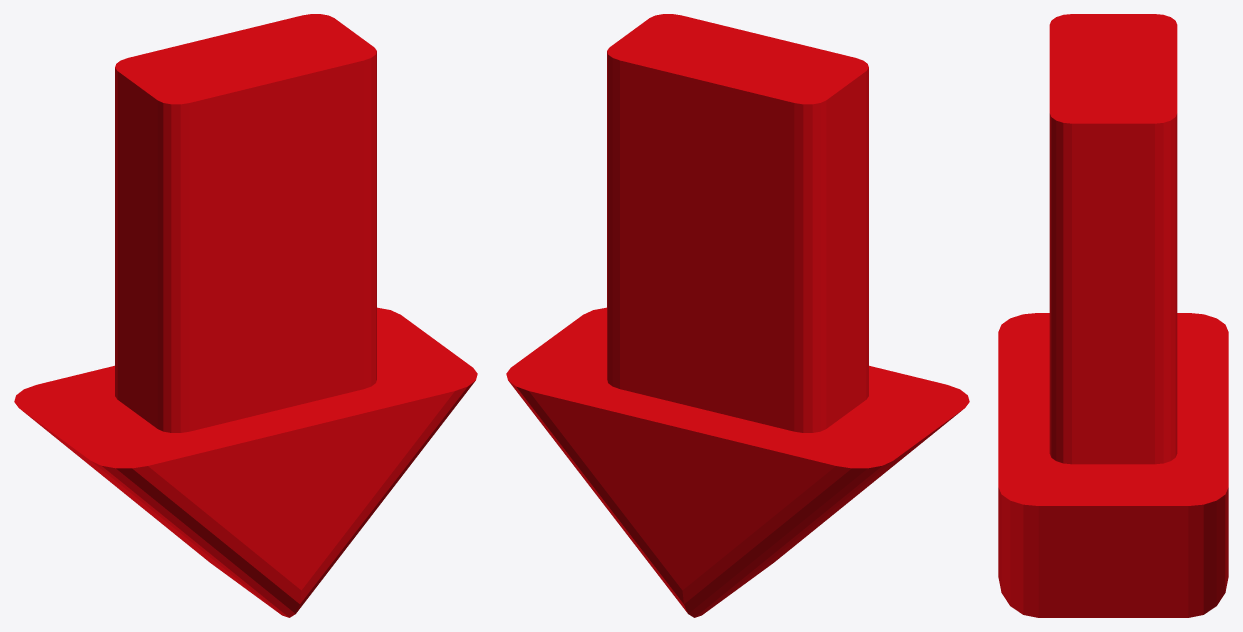
Rendered from FLECHA V2.fbx.
3 views of the same model, side by side, from view 1: azimuth 30°, elevation 25°; view 2: azimuth 150°, elevation 25°; view 3: azimuth 270°, elevation 25° (orthographic). The views are drawn at different scales.
Visible parts, largest first — view 1: Cube.001; view 2: Cube.001; view 3: Cube.001.
Part boxes in pixels (x1=…): Cube.001: x1=14, y1=14, x2=477, y2=617; Cube.001: x1=506, y1=14, x2=969, y2=617; Cube.001: x1=998, y1=14, x2=1228, y2=617.
Bounding box in the file's own units: 397 × 527 × 200.
